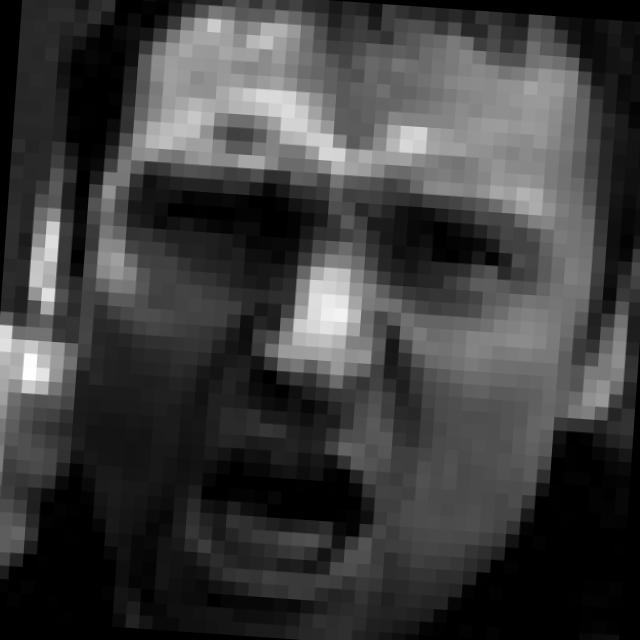angry: (90, 125, 532, 626)
